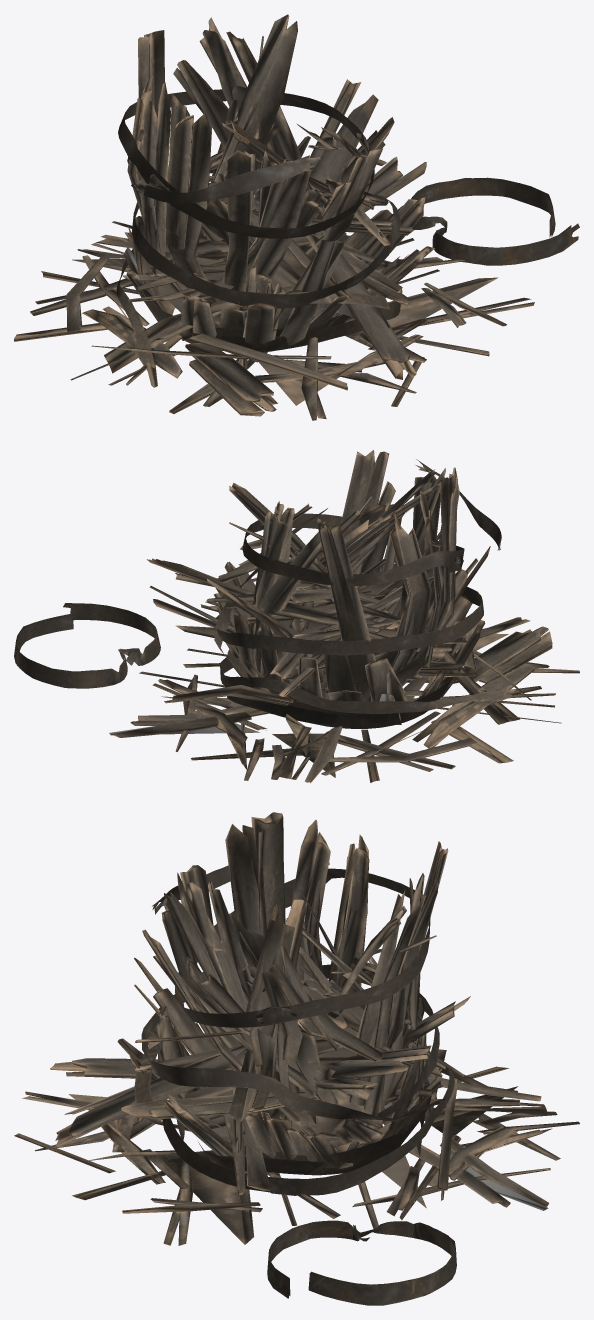
The model's file is des-barrels-rubble.fbx.
The picture shows the model from 3 angles, top to bottom: view 1: azimuth 30°, elevation 25°; view 2: azimuth 150°, elevation 25°; view 3: azimuth 270°, elevation 25°; orthographic projection. The views are drawn at different scales.
Visible parts, largest first — view 1: Mesh_0; view 2: Mesh_0; view 3: Mesh_0.
Boxes of the visible parts, x1,y1,x2,y2 form: Mesh_0: (14, 14, 579, 420); Mesh_0: (14, 450, 579, 783); Mesh_0: (14, 812, 579, 1305).
Bounding box in the file's own units: 95.75 × 43.12 × 80.42.
1 material, 1 textured.
